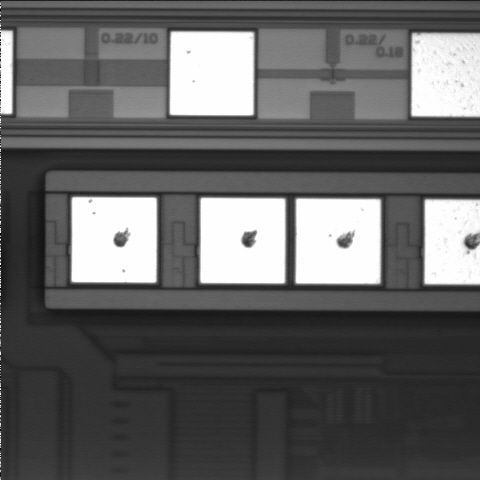pad: (72, 197, 157, 283), (200, 198, 285, 283), (296, 199, 381, 284), (170, 32, 254, 115)
